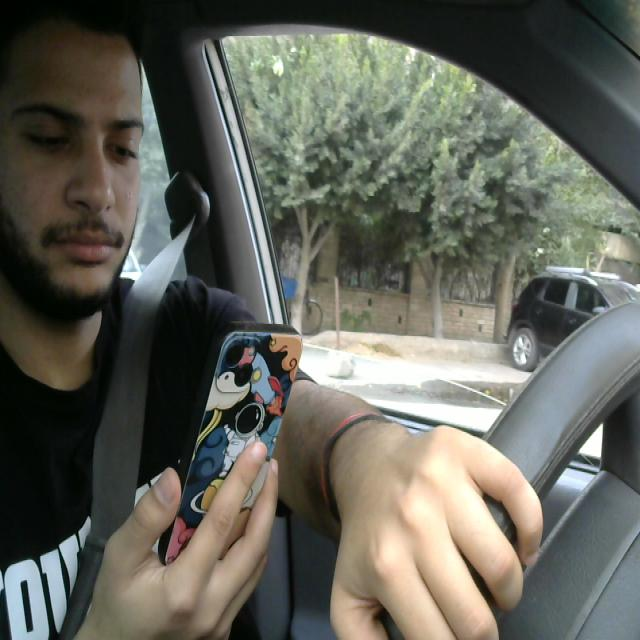mobile use: (131, 302, 307, 632)
